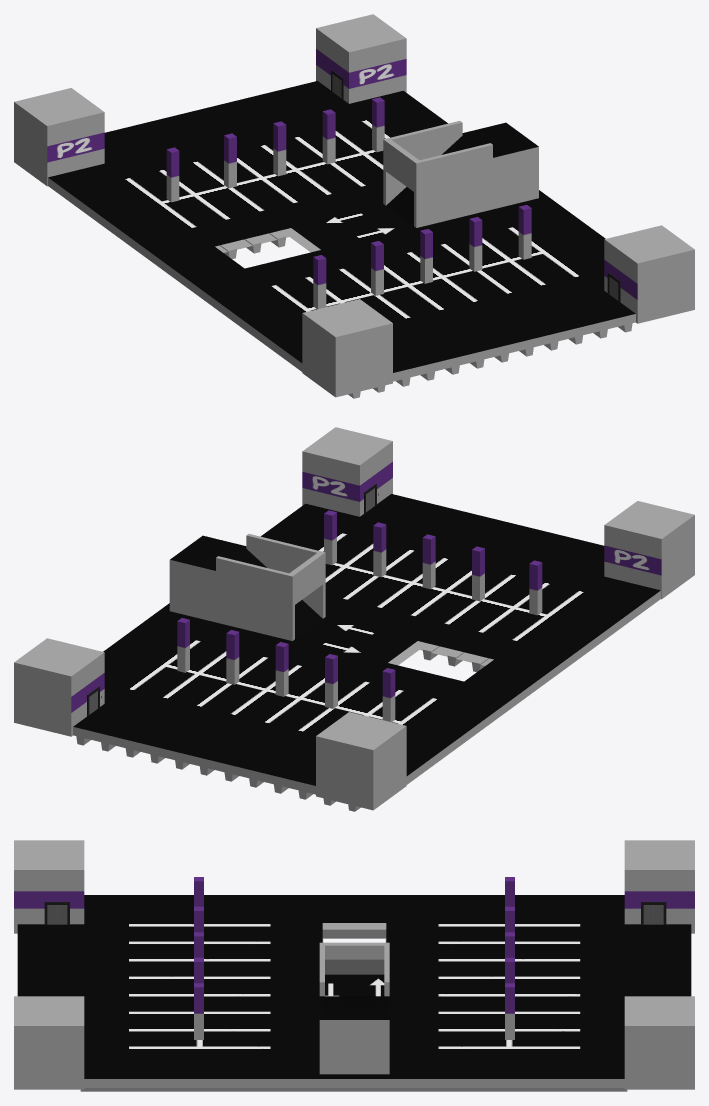
The model's file is ParkingGarageFloor_02.fbx.
3 renders of one model, top to bottom at view 1: azimuth 30°, elevation 25°; view 2: azimuth 150°, elevation 25°; view 3: azimuth 270°, elevation 25°, orthographic. The views are drawn at different scales.
Visible parts, largest first — view 1: ParkingGarageFloor2; view 2: ParkingGarageFloor2; view 3: ParkingGarageFloor2.
Boxes of the visible parts, x1=… form: ParkingGarageFloor2: x1=14, y1=14, x2=694, y2=398; ParkingGarageFloor2: x1=14, y1=427, x2=694, y2=811; ParkingGarageFloor2: x1=14, y1=840, x2=694, y2=1091.
Size of the model in its own units: 43.67 by 9.42 by 67.68.
